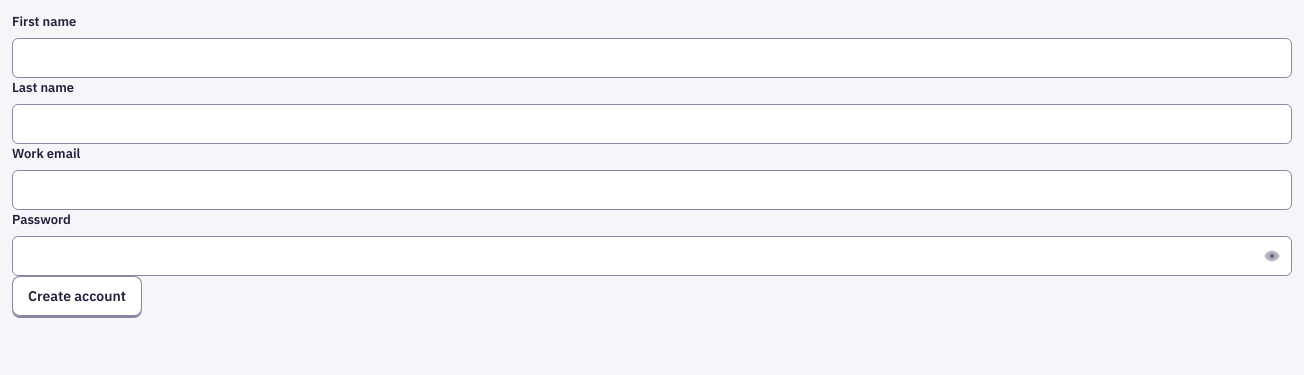
Scenario: useApiForm › shows any other error once above the form
In the field labelled "First name": (652, 58) 12,38 -> 1292,78, type "Sami"
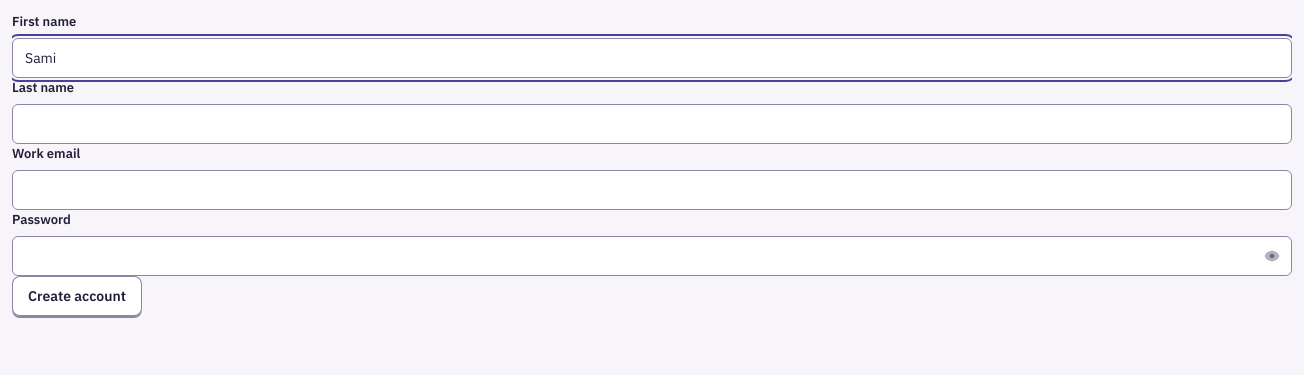
In the field labelled "Last name": (652, 124) 12,104 -> 1292,144, type "Nour"
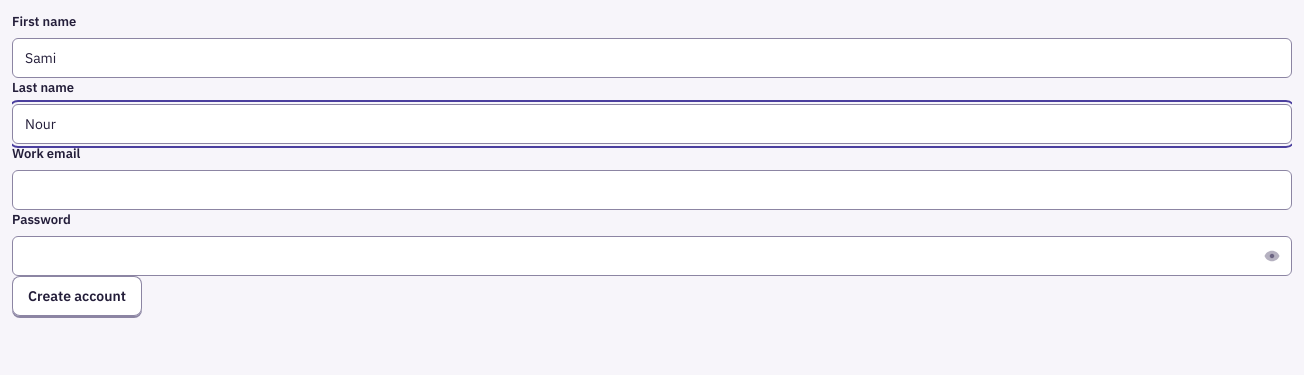
In the field labelled "Work email": (652, 190) 12,170 -> 1292,210, type "sami.nour@shop-team.com"
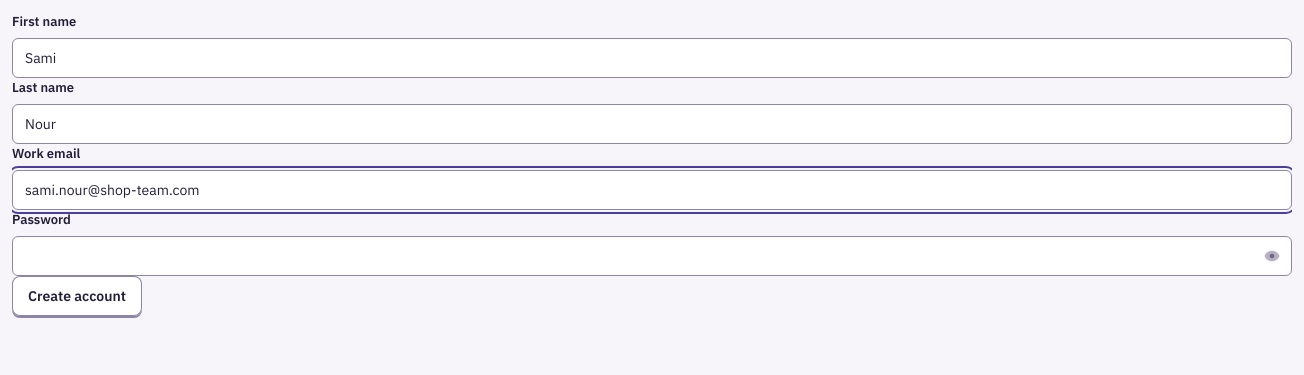
In the password field labelled "Password": (652, 256) 12,236 -> 1292,276, type "Correct#456"
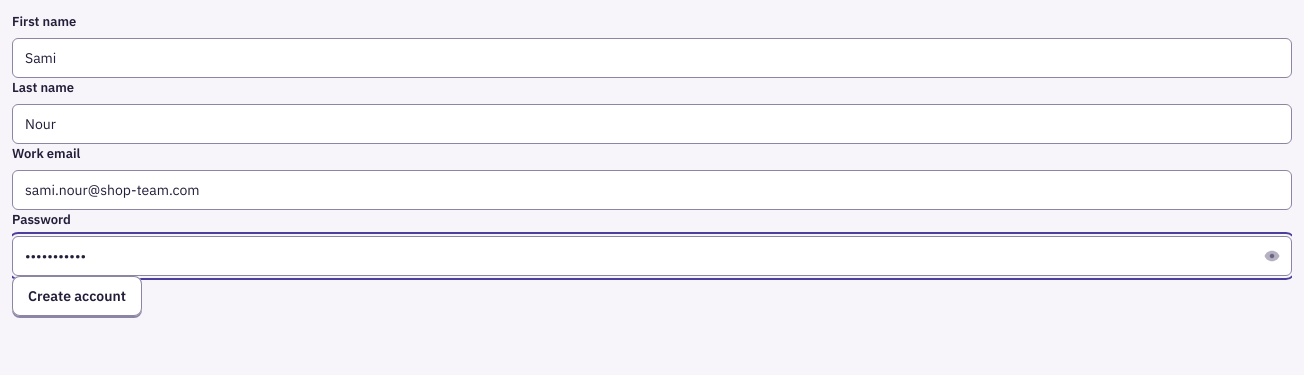
Click the button "Create account": (77, 296) 12,276 -> 142,316
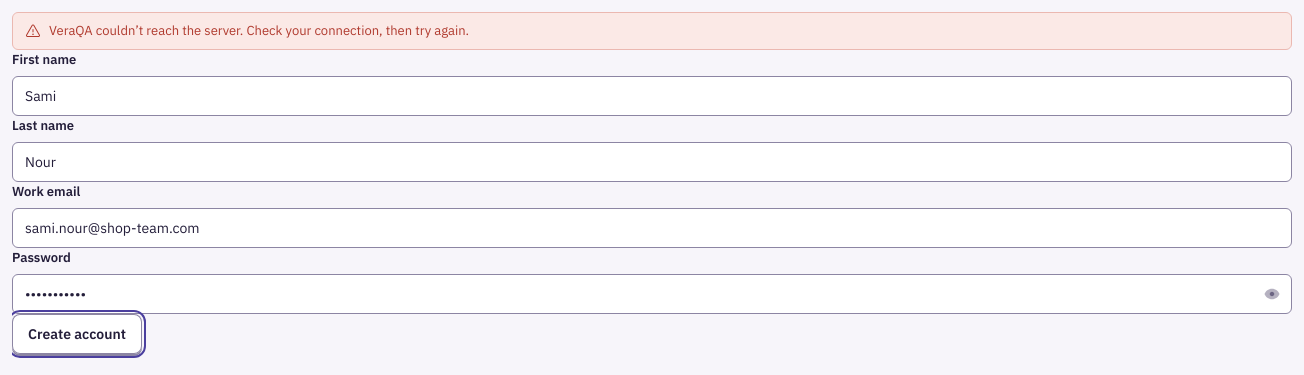
Expected: the message reads "VeraQA couldn’t reach the server. Check your connection, then try again.", 49,22 -> 469,39
